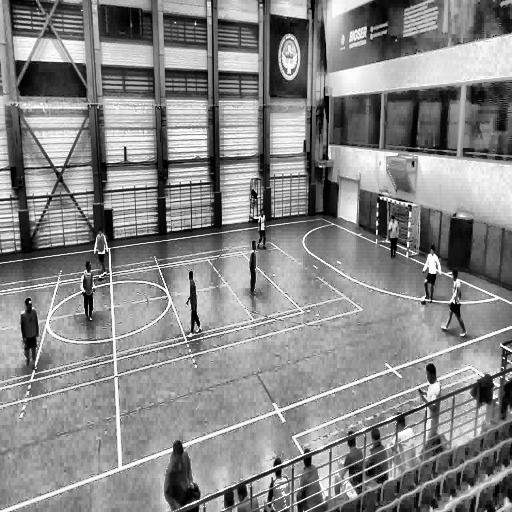ball: (420, 295, 428, 305)
player: (164, 440, 194, 510), (442, 268, 466, 333), (20, 298, 39, 368), (422, 244, 442, 301), (187, 270, 202, 332), (80, 261, 94, 321), (94, 228, 109, 282), (248, 240, 258, 296), (387, 214, 399, 259), (258, 208, 268, 249)
